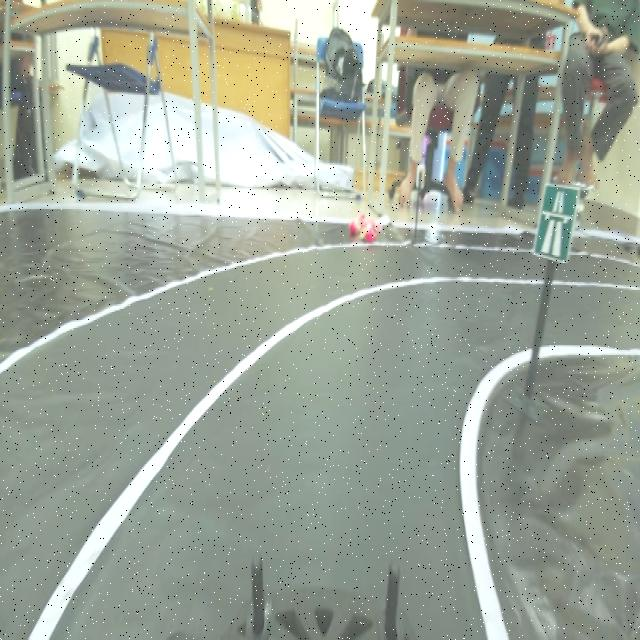highway_entry: (532, 172, 578, 276)
